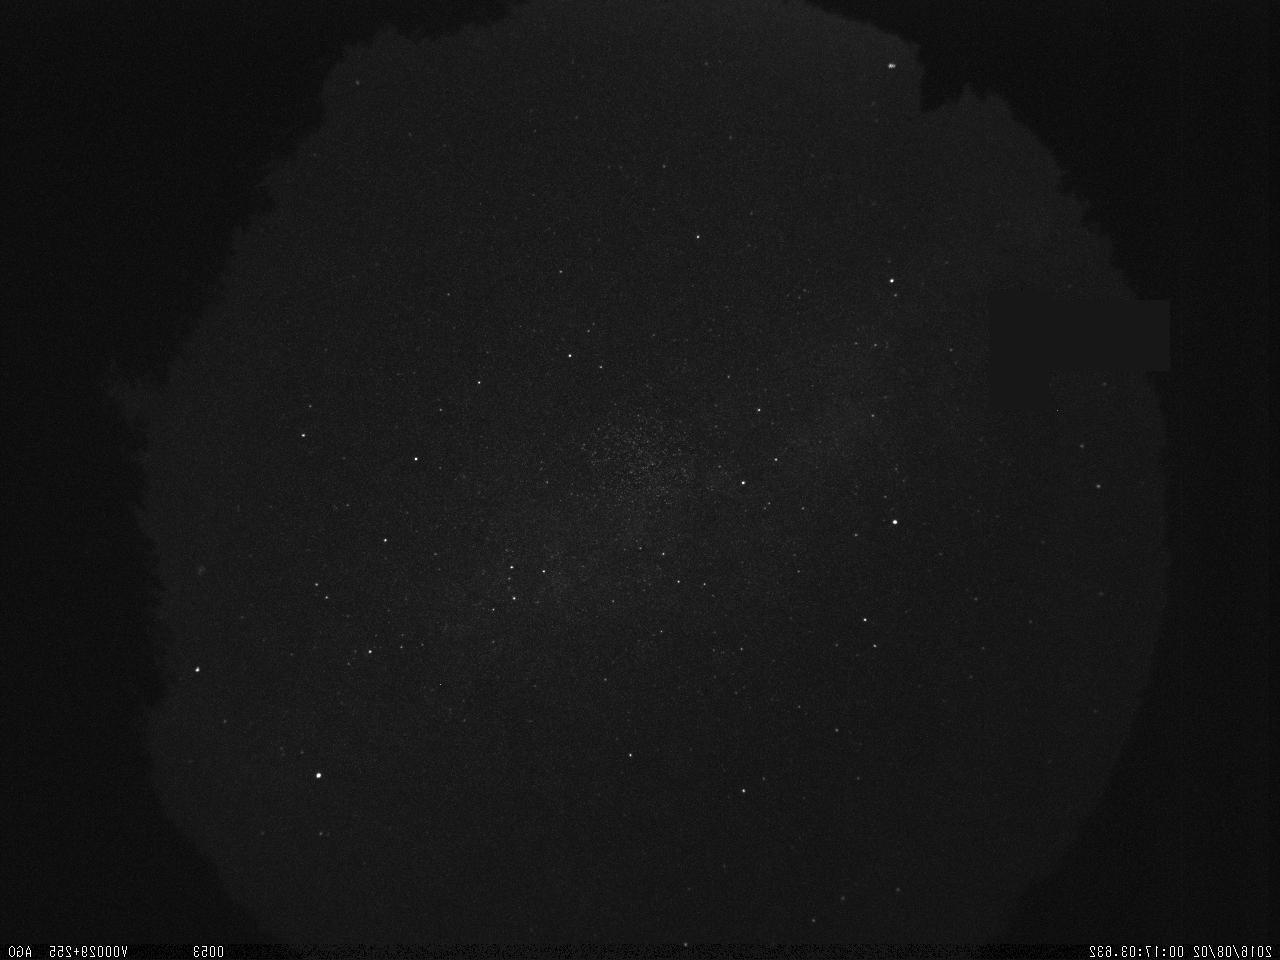meteor: (1091, 300, 1125, 325)
